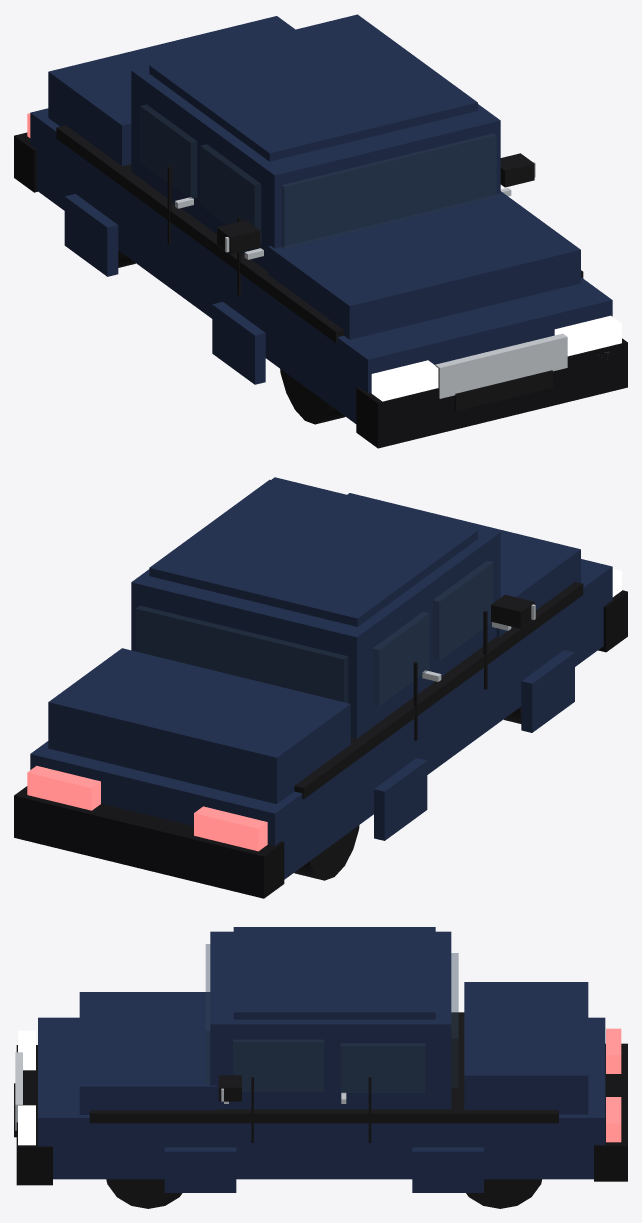
File: premium_sedan_mh.glb
The picture shows the model from 3 angles, top to bottom: view 1: azimuth 30°, elevation 25°; view 2: azimuth 150°, elevation 25°; view 3: azimuth 270°, elevation 25°; orthographic projection. The views are drawn at different scales.
Parts seen in each view (by area): view 1: _MeshInstance3D_4, _MeshInstance3D_2, _MeshInstance3D_3, _MeshInstance3D_6, _MeshInstance3D_23, _MeshInstance3D_5, _MeshInstance3D_8, _MeshInstance3D_7, _MeshInstance3D_9, _MeshInstance3D_26, _MeshInstance3D_28, _MeshInstance3D_44 (+8 smaller); view 2: _MeshInstance3D_4, _MeshInstance3D_5, _MeshInstance3D_2, _MeshInstance3D_6, _MeshInstance3D_18, _MeshInstance3D_24, _MeshInstance3D_7, _MeshInstance3D_3, _MeshInstance3D_26, _MeshInstance3D_28, _MeshInstance3D_43, _MeshInstance3D_44 (+5 smaller); view 3: _MeshInstance3D_2, _MeshInstance3D_4, _MeshInstance3D_6, _MeshInstance3D_5, _MeshInstance3D_3, _MeshInstance3D_7, _MeshInstance3D_25, _MeshInstance3D_27, _MeshInstance3D_41, _MeshInstance3D_42, _MeshInstance3D_18, _MeshInstance3D_8 (+10 smaller).
Boxes of the visible parts, bbox=[...] form: _MeshInstance3D_4: bbox=[131, 66, 500, 271]; _MeshInstance3D_2: bbox=[30, 108, 612, 423]; _MeshInstance3D_3: bbox=[268, 191, 580, 339]; _MeshInstance3D_6: bbox=[149, 14, 477, 161]; _MeshInstance3D_23: bbox=[282, 133, 496, 248]; _MeshInstance3D_5: bbox=[48, 16, 295, 166]; _MeshInstance3D_8: bbox=[356, 338, 627, 448]; _MeshInstance3D_7: bbox=[56, 125, 583, 342]; _MeshInstance3D_9: bbox=[435, 333, 567, 398]; _MeshInstance3D_26: bbox=[200, 144, 260, 242]; _MeshInstance3D_28: bbox=[140, 104, 196, 198]; _MeshInstance3D_44: bbox=[64, 194, 118, 276]; _MeshInstance3D_4: bbox=[131, 477, 500, 738]; _MeshInstance3D_5: bbox=[48, 648, 350, 804]; _MeshInstance3D_2: bbox=[30, 559, 612, 879]; _MeshInstance3D_6: bbox=[149, 479, 477, 626]; _MeshInstance3D_18: bbox=[14, 786, 284, 898]; _MeshInstance3D_24: bbox=[136, 606, 347, 702]; _MeshInstance3D_7: bbox=[294, 581, 583, 799]; _MeshInstance3D_3: bbox=[347, 493, 580, 636]; _MeshInstance3D_26: bbox=[433, 561, 493, 660]; _MeshInstance3D_28: bbox=[373, 612, 429, 705]; _MeshInstance3D_43: bbox=[521, 650, 574, 732]; _MeshInstance3D_44: bbox=[374, 758, 427, 840]; _MeshInstance3D_2: bbox=[38, 1017, 605, 1179]; _MeshInstance3D_4: bbox=[210, 931, 451, 1109]; _MeshInstance3D_6: bbox=[233, 927, 435, 1019]; _MeshInstance3D_5: bbox=[464, 982, 588, 1114]; _MeshInstance3D_3: bbox=[79, 992, 216, 1114]; _MeshInstance3D_7: bbox=[89, 1012, 558, 1123]; _MeshInstance3D_25: bbox=[233, 1040, 323, 1091]; _MeshInstance3D_27: bbox=[341, 1043, 424, 1092]; _MeshInstance3D_41: bbox=[164, 1147, 236, 1192]; _MeshInstance3D_42: bbox=[412, 1147, 483, 1192]; _MeshInstance3D_18: bbox=[594, 1043, 627, 1181]; _MeshInstance3D_8: bbox=[16, 1045, 52, 1185].
Size of the model in its own units: 2.38 by 1.61 by 4.71.
